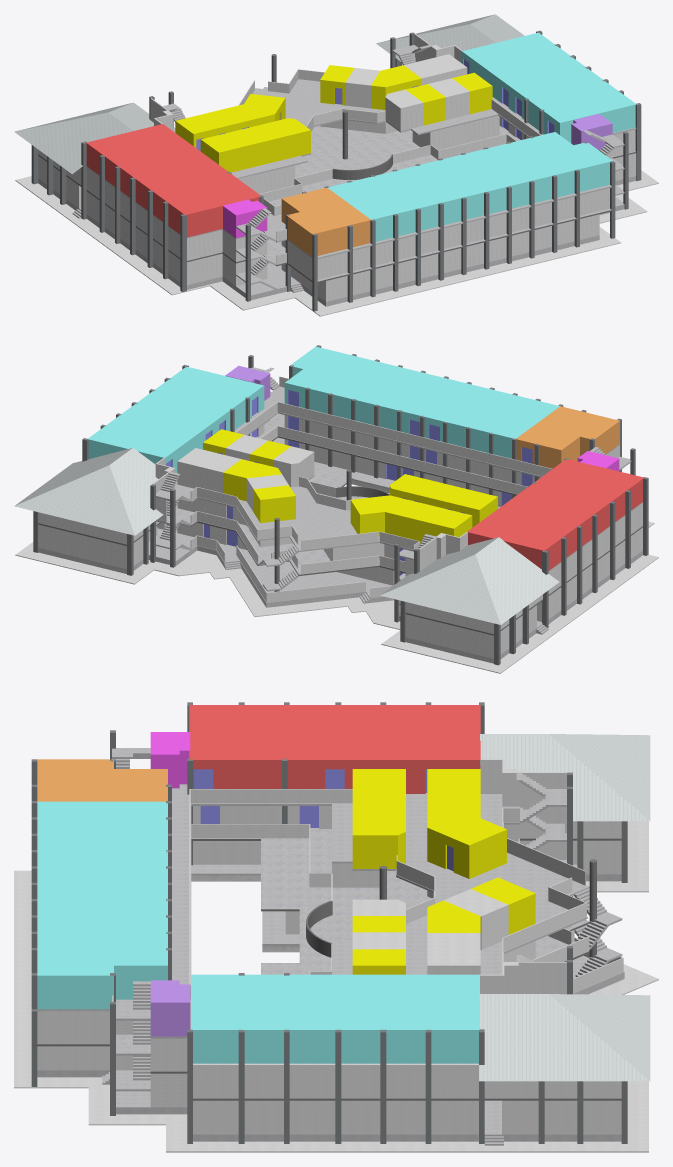
File: Annex 12F.gltf
3 renders of one model, top to bottom at view 1: azimuth 30°, elevation 25°; view 2: azimuth 150°, elevation 25°; view 3: azimuth 270°, elevation 25°, orthographic. The views are drawn at different scales.
Visible parts, largest first — view 1: object 144, object 138, object 62, object 3, Column#2 (×15), object 131, object 139, object 120, object 143, object 141, object 137, object 127 (+32 smaller); view 2: object 144, object 138, object 127, object 3, object 130, object 142, object 11, object 131, object 139, object 52, object 141, object 120 (+32 smaller); view 3: object 144, object 138, object 3, object 143, object 130, object 120, object 62, object 141, object 139, object 127, object 131, object 11 (+36 smaller).
Part boxes in pixels (left/top/right/bottom): object 144: left=86, top=124, right=260, bottom=237; object 138: left=419, top=132, right=612, bottom=219; object 62: left=38, top=125, right=636, bottom=282; object 3: left=15, top=170, right=658, bottom=316; Column#2 (×15): left=245, top=131, right=628, bottom=311; object 131: left=328, top=165, right=462, bottom=241; object 139: left=150, top=33, right=469, bottom=131; object 120: left=510, top=68, right=636, bottom=142; object 143: left=86, top=41, right=636, bottom=259; object 141: left=462, top=33, right=586, bottom=108; object 137: left=281, top=188, right=370, bottom=256; object 127: left=14, top=102, right=153, bottom=174; object 144: left=467, top=459, right=643, bottom=570; object 138: left=284, top=346, right=467, bottom=436; object 127: left=380, top=537, right=559, bottom=624; object 3: left=15, top=480, right=658, bottom=673; object 130: left=14, top=448, right=163, bottom=535; object 142: left=190, top=376, right=552, bottom=551; object 11: left=38, top=437, right=642, bottom=663; object 131: left=423, top=383, right=559, bottom=458; object 139: left=152, top=435, right=467, bottom=571; object 52: left=190, top=425, right=527, bottom=574; object 141: left=88, top=403, right=213, bottom=472; object 120: left=137, top=367, right=264, bottom=434; object 144: left=189, top=705, right=480, bottom=793; object 138: left=37, top=867, right=167, bottom=1009; object 3: left=14, top=821, right=658, bottom=1152; object 143: left=31, top=784, right=589, bottom=1038; object 130: left=479, top=994, right=650, bottom=1081; object 120: left=191, top=974, right=338, bottom=1063; object 62: left=31, top=828, right=621, bottom=1100; object 141: left=338, top=974, right=479, bottom=1063; object 139: left=352, top=759, right=566, bottom=994; object 127: left=480, top=734, right=650, bottom=821; object 131: left=37, top=801, right=167, bottom=867; object 11: left=37, top=864, right=624, bottom=1141.
Bounding box in the file's own units: 63.61 × 10.22 × 50.1.
12 materials, 4 textured.
